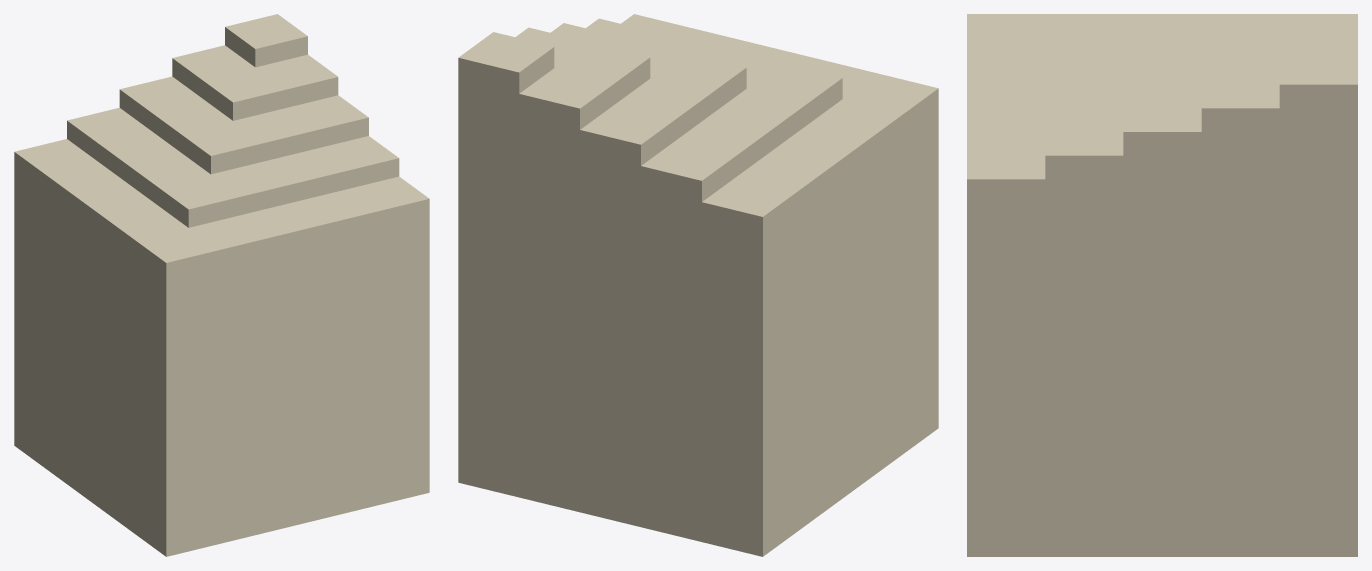
File: roman_stair_corner.fbx
3 renders of one model, left to right at view 1: azimuth 30°, elevation 25°; view 2: azimuth 150°, elevation 25°; view 3: azimuth 270°, elevation 25°, orthographic. The views are drawn at different scales.
Visible parts, largest first — view 1: Cube.009; view 2: Cube.009; view 3: Cube.009.
Boxes of the visible parts, x1,y1,x2,y2 form: Cube.009: [14, 14, 429, 556]; Cube.009: [458, 14, 938, 556]; Cube.009: [967, 14, 1357, 556].
Bounding box in the file's own units: 3 × 4 × 3.
